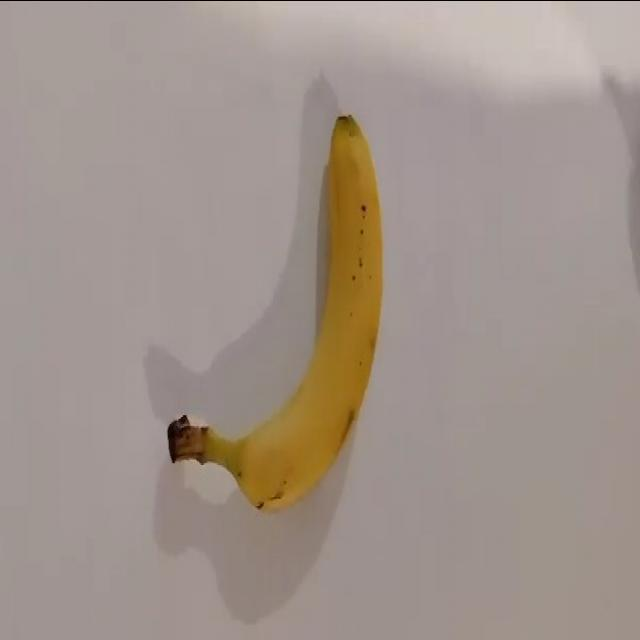Banana: (183, 111, 388, 512)
